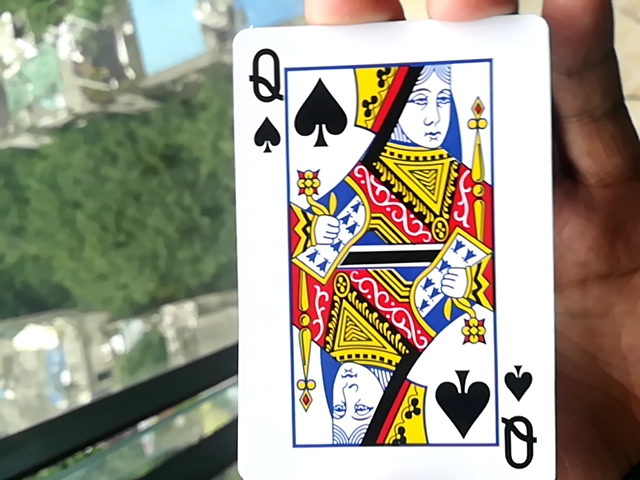ht q: (222, 21, 562, 480)
